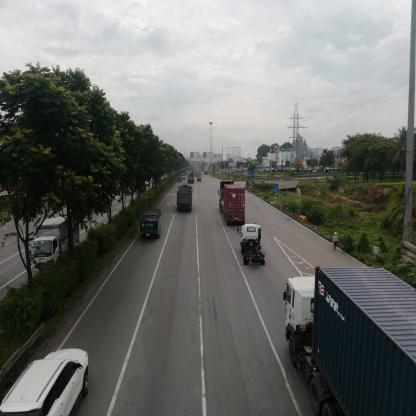car: (3, 349, 90, 416)
container: (287, 268, 416, 416), (219, 182, 246, 227)
truck: (35, 220, 81, 266), (241, 226, 266, 267), (141, 211, 162, 240), (177, 188, 193, 213)
